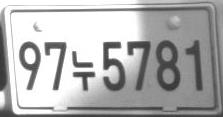1: (184, 38, 209, 91)
5: (101, 41, 126, 91)
7: (127, 40, 151, 91), (44, 41, 66, 90)
8: (155, 38, 181, 91)
9: (18, 40, 41, 90)
누: (71, 50, 95, 91)
